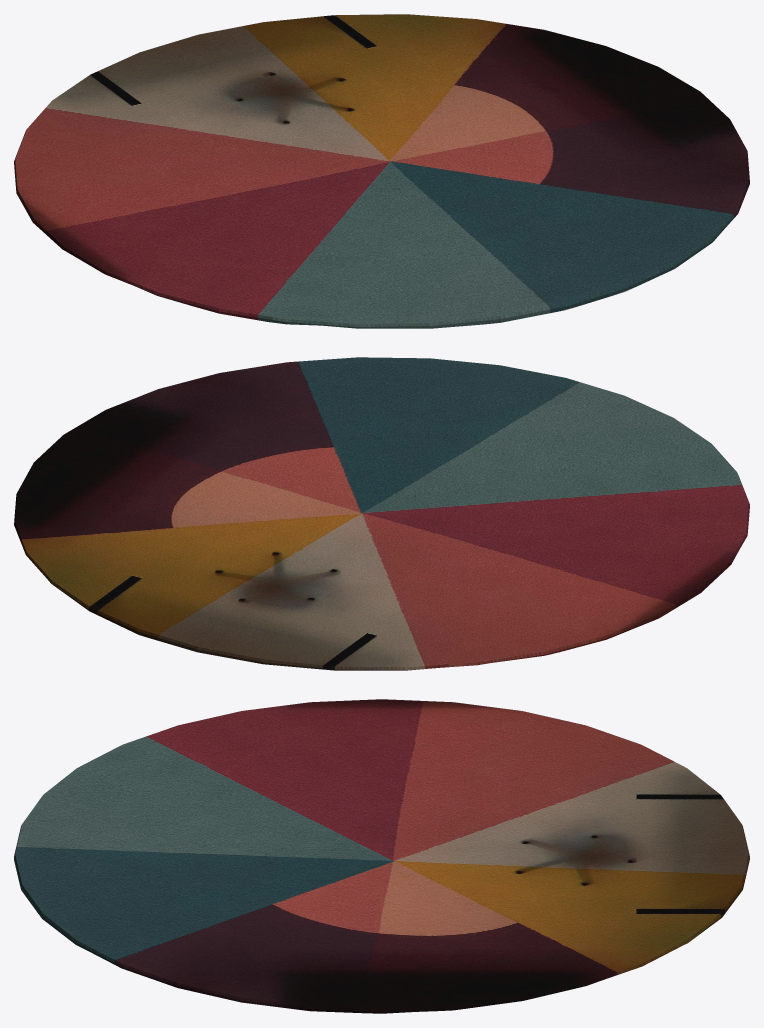
File: rug.glb
The picture shows the model from 3 angles, top to bottom: view 1: azimuth 30°, elevation 25°; view 2: azimuth 150°, elevation 25°; view 3: azimuth 270°, elevation 25°; orthographic projection.
Visible parts, largest first — view 1: roomrug; view 2: roomrug; view 3: roomrug.
Boxes of the visible parts, left/top/right/bottom form: roomrug: left=14, top=14, right=749, bottom=328; roomrug: left=14, top=357, right=749, bottom=670; roomrug: left=14, top=699, right=749, bottom=1013.
Size of the model in its own units: 5.9 by 0.0532 by 5.9.
1 material, 1 textured.
